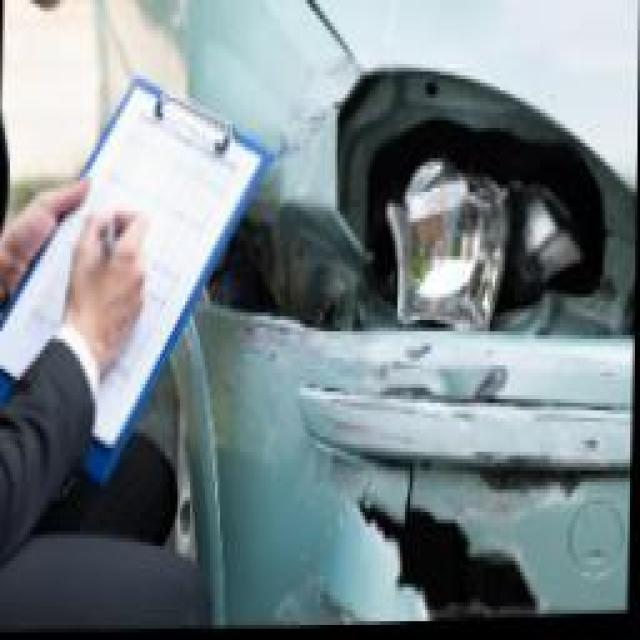Bumper: (182, 316, 631, 633)
Fender: (245, 49, 355, 256)
Light: (348, 79, 633, 334)
